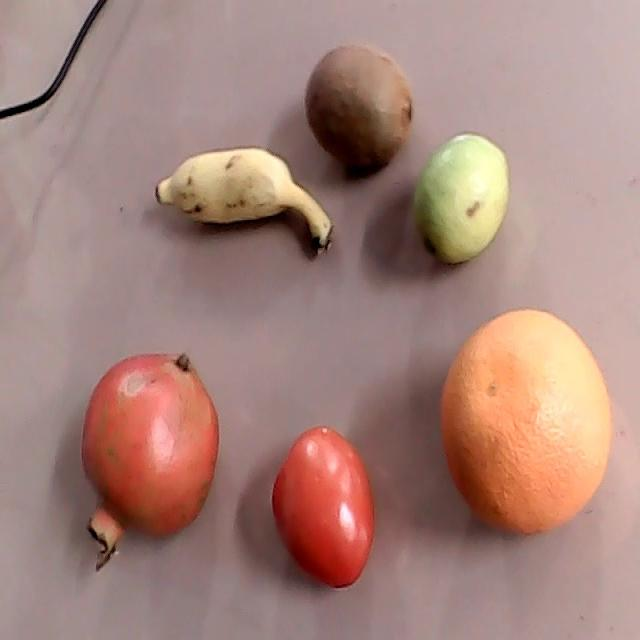kiwi: (304, 43, 412, 164)
lemon: (412, 134, 512, 263)
orange: (440, 308, 613, 537)
pomegranate: (82, 354, 220, 573)
tomato: (273, 426, 376, 589)
